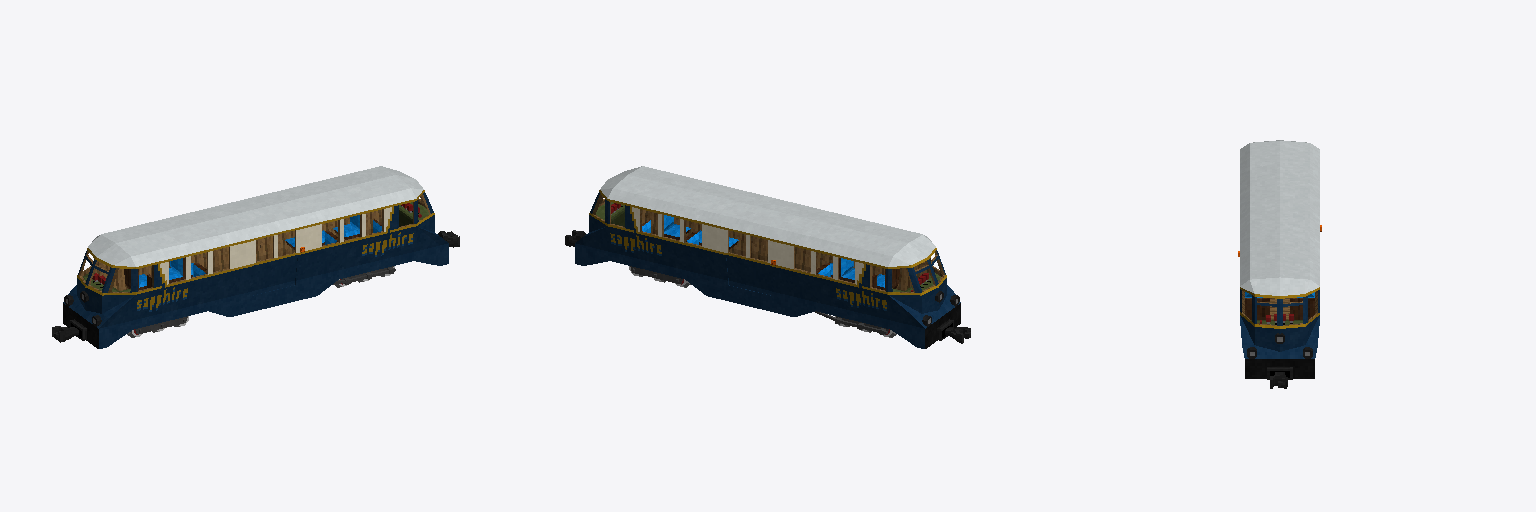
3 views of the same model, side by side, from view 1: azimuth 30°, elevation 25°; view 2: azimuth 150°, elevation 25°; view 3: azimuth 270°, elevation 25° (orthographic).
Visible parts, largest first — view 1: FRAME_ext_roof, FRAME_ext_body.002, FRAME_ext_body.001, FRAME_int_body.001, FRAME_int_body.002, DOOR_6_TL_0.5_X_CG_doorleft_NOTOUCH, DOOR_5_TL_-0.5_X_CG_doorleft_NOTOUCH; view 2: FRAME_ext_roof, FRAME_ext_body.002, FRAME_ext_body.001, FRAME_int_body.001, FRAME_int_body.002, DOOR_4_TL_0.5_X_CG_doorright_NOTOUCH, DOOR_3_TL_-0.5_X_CG_doorright_NOTOUCH; view 3: FRAME_ext_roof, FRAME_ext_body.001.
Part boxes in pixels (x1,y1,x2,y2): FRAME_ext_roof: (88,166,423,266); FRAME_ext_body.002: (63,239,273,348); FRAME_ext_body.001: (273,190,448,306); FRAME_int_body.001: (260,194,430,259); FRAME_int_body.002: (79,247,229,292); DOOR_6_TL_0.5_X_CG_doorleft_NOTOUCH: (273,228,297,289); DOOR_5_TL_-0.5_X_CG_doorleft_NOTOUCH: (252,233,275,295); FRAME_ext_roof: (600,166,935,266); FRAME_ext_body.002: (750,239,960,348); FRAME_ext_body.001: (575,190,750,306); FRAME_int_body.001: (592,193,763,259); FRAME_int_body.002: (794,247,944,292); DOOR_4_TL_0.5_X_CG_doorright_NOTOUCH: (726,228,750,289); DOOR_3_TL_-0.5_X_CG_doorright_NOTOUCH: (748,233,771,295); FRAME_ext_roof: (1240,140,1319,295); FRAME_ext_body.001: (1240,287,1319,378).
Size of the model in its own units: 11.5 by 2.56 by 2.06.
Materials: 8 (8 with a texture image).